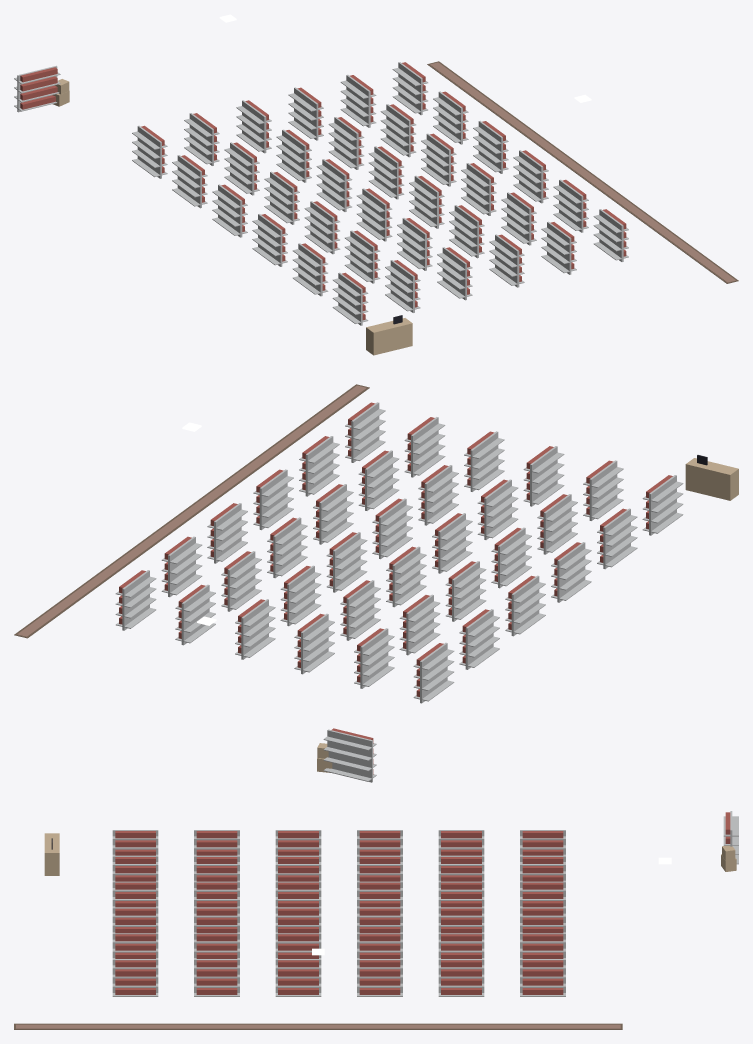
The model's file is fine-s0.glb.
3 views of the same model, one above another, from view 1: azimuth 30°, elevation 25°; view 2: azimuth 150°, elevation 25°; view 3: azimuth 270°, elevation 25° (orthographic). The views are drawn at different scales.
Visible parts, largest first — view 1: soft-s0, shelving.000, shop-counter.000, shelf.018, shelf.005, shelf.010, shelf.015, shelf.022, shelf.008, shelf.009, shelf.024, shelf.000 (+27 smaller); view 2: soft-s0, shelving.000, shop-counter.000, shelf.000, shelf.002, shelf.017, shelf.022, shelf.026, shelf.029, shelf.031, shelf.032, shelf.033 (+27 smaller); view 3: soft-s0, shelf.031, shelf.033, shelf.035, shelf.030, shelf.032, shelf.034, shelf.007, shelf.009, shelf.011, shelf.019, shelf.021 (+28 smaller).
Boxes of the visible parts, x1,y1,x2,y2 form: soft-s0: [427, 61, 738, 283]; shelving.000: [14, 65, 60, 112]; shop-counter.000: [366, 315, 412, 355]; shelf.018: [288, 87, 323, 140]; shelf.005: [332, 272, 368, 325]; shelf.010: [344, 230, 380, 283]; shelf.015: [356, 188, 392, 241]; shelf.022: [449, 205, 484, 258]; shelf.008: [264, 171, 299, 224]; shelf.009: [304, 201, 340, 254]; shelf.024: [340, 74, 376, 127]; shelf.000: [132, 125, 167, 178]; soft-s0: [14, 384, 369, 638]; shelving.000: [323, 728, 376, 782]; shop-counter.000: [685, 455, 738, 500]; shelf.000: [413, 642, 454, 703]; shelf.002: [505, 575, 545, 636]; shelf.017: [523, 446, 564, 506]; shelf.022: [418, 465, 458, 525]; shelf.026: [267, 517, 307, 578]; shelf.029: [404, 417, 445, 477]; shelf.031: [161, 536, 202, 597]; shelf.032: [207, 503, 247, 563]; shelf.033: [253, 469, 293, 530]; soft-s0: [14, 1023, 622, 1029]; shelf.031: [438, 959, 484, 996]; shelf.033: [275, 959, 321, 996]; shelf.035: [112, 959, 158, 996]; shelf.030: [520, 959, 565, 996]; shelf.032: [357, 959, 402, 996]; shelf.034: [194, 959, 239, 996]; shelf.007: [438, 855, 484, 881]; shelf.009: [275, 855, 321, 881]; shelf.011: [112, 855, 158, 881]; shelf.019: [438, 907, 484, 933]; shelf.021: [275, 907, 321, 933].
Size of the model in its own units: 16.92 by 3.27 by 28.47.
